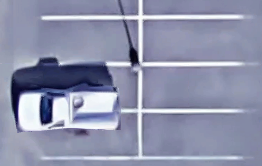Occupied: (40, 64, 141, 112), (40, 112, 140, 158)
Vacant: (141, 64, 243, 112), (140, 111, 244, 158), (40, 17, 140, 65), (141, 17, 243, 64)
